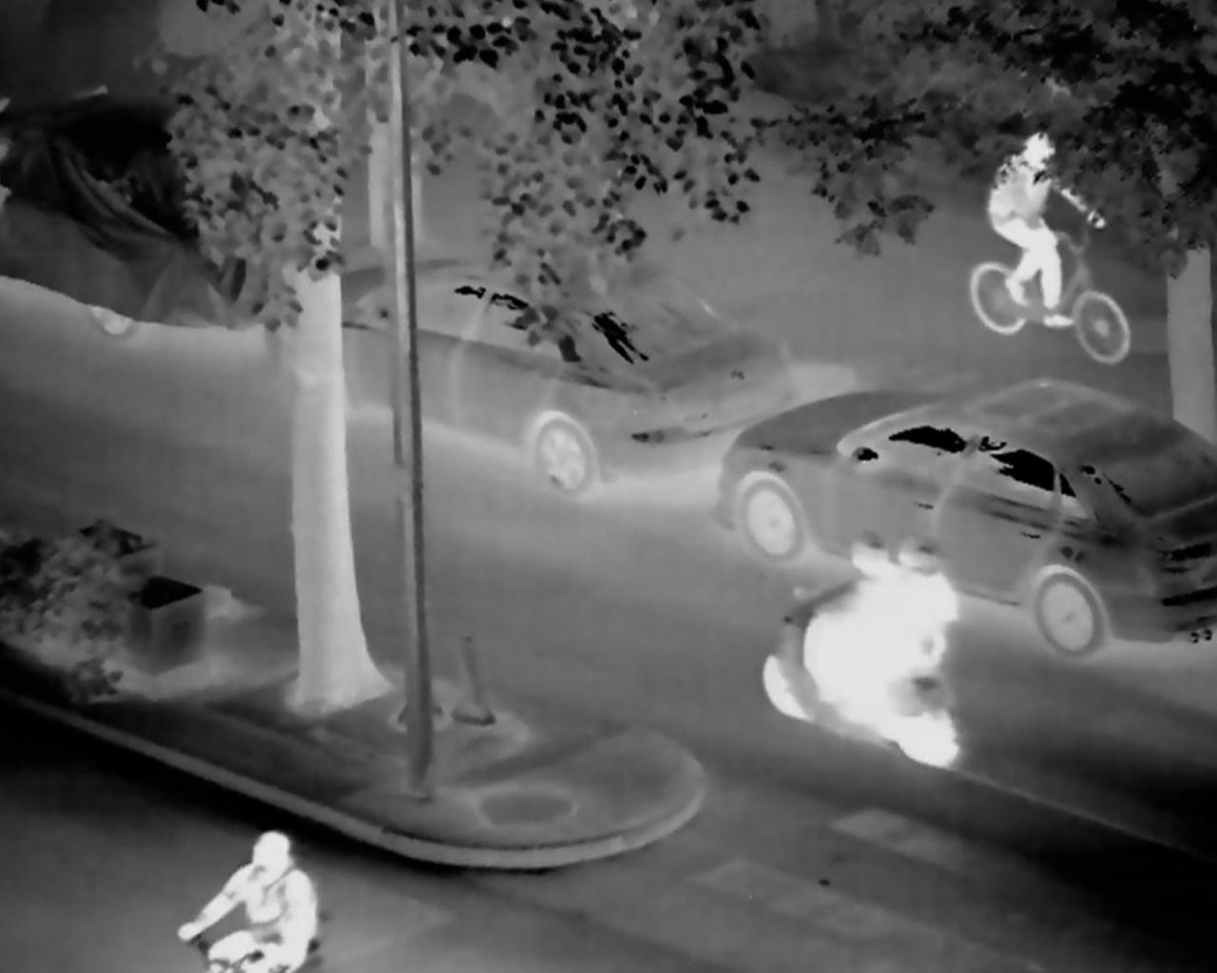person: (963, 122, 1140, 371), (767, 534, 943, 778), (177, 828, 320, 973)
